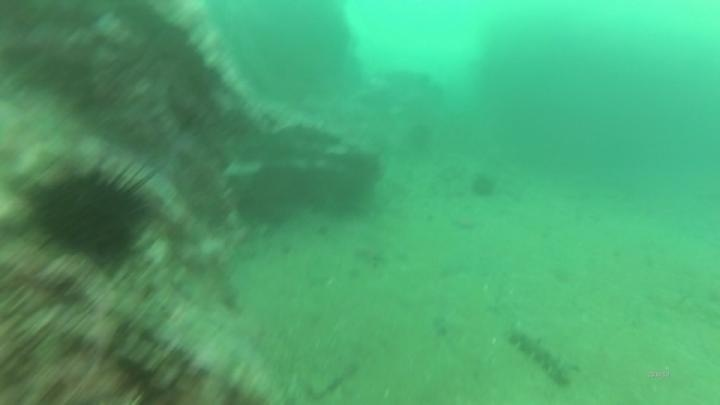echinus: (23, 158, 155, 270), (468, 171, 499, 202)
holothurian: (505, 322, 580, 389)
